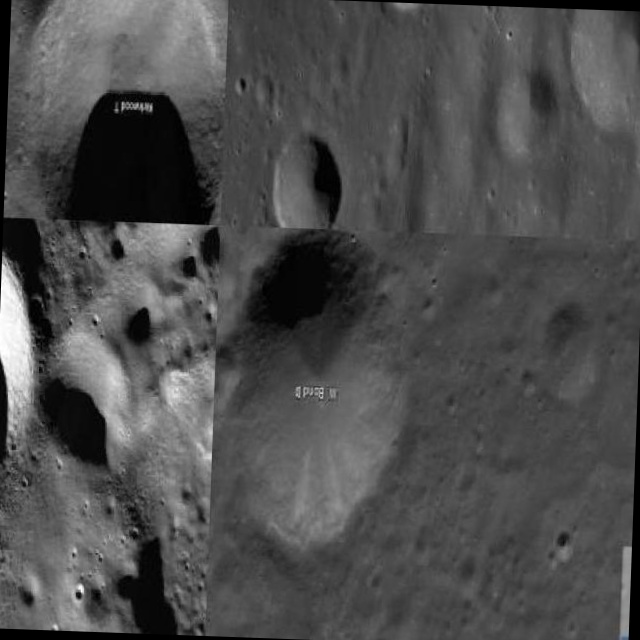crater: (224, 230, 404, 552), (14, 0, 215, 228), (38, 340, 131, 482), (560, 0, 638, 123), (268, 134, 337, 228), (482, 60, 552, 152), (543, 288, 602, 390), (562, 522, 582, 552)
